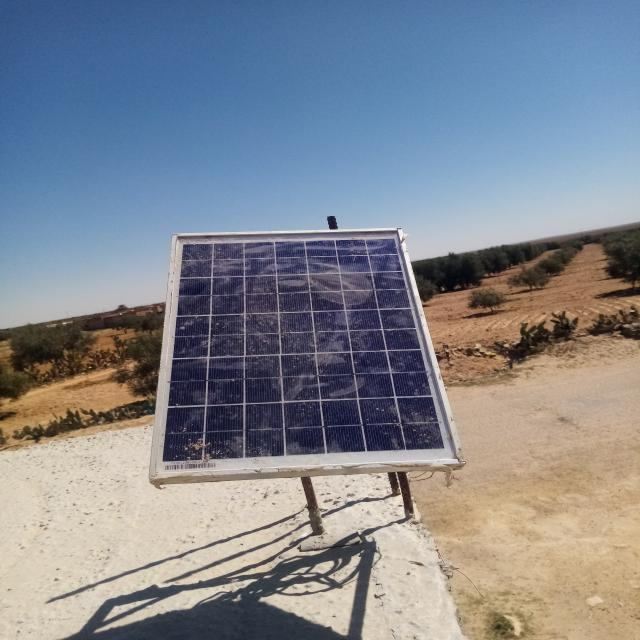faulty: (150, 227, 464, 477)
